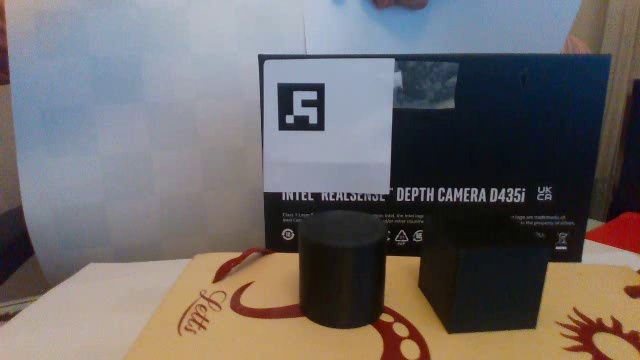cube: (415, 202, 553, 339)
cylindre: (289, 203, 391, 335)
